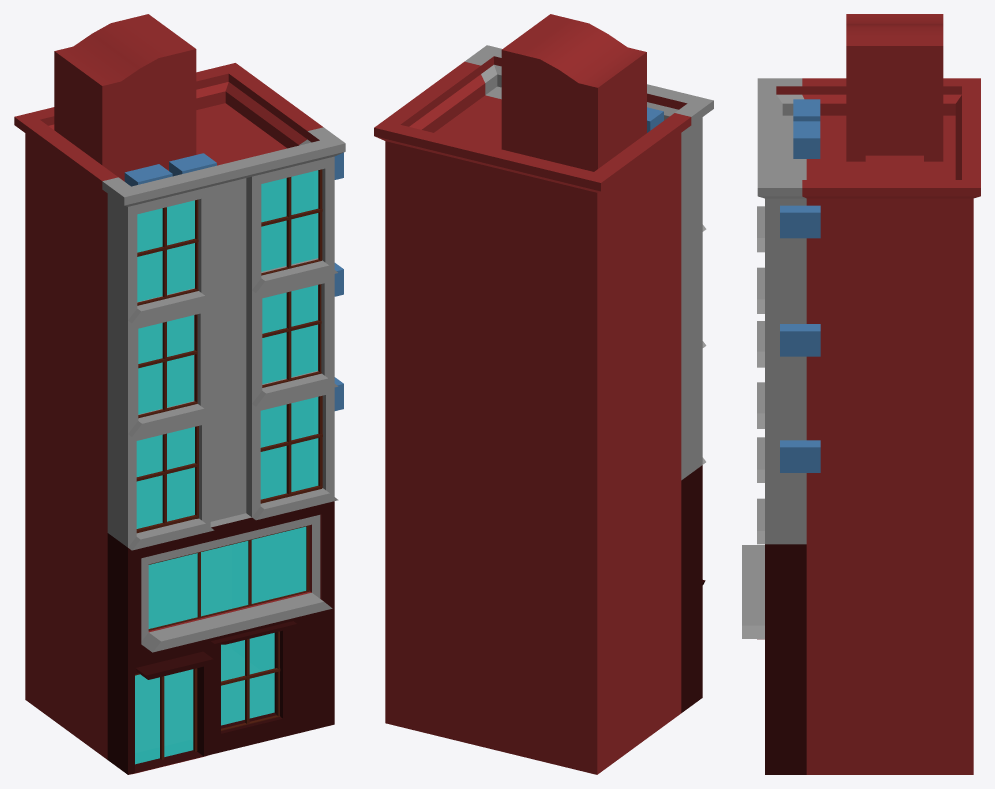
The model's file is House 1.fbx.
3 views of the same model, side by side, from view 1: azimuth 30°, elevation 25°; view 2: azimuth 150°, elevation 25°; view 3: azimuth 270°, elevation 25° (orthographic). The views are drawn at different scales.
Parts seen in each view (by area): view 1: Box243, Box263, Box262, Box261; view 2: Box243; view 3: Box243, Box244, Box245, Box246, Box262, Box261.
Part boxes in pixels (x1=…): Box243: x1=14, y1=14, x2=345, y2=774; Box263: x1=135, y1=169, x2=322, y2=759; Box262: x1=169, y1=153, x2=216, y2=176; Box261: x1=124, y1=164, x2=172, y2=186; Box243: x1=374, y1=14, x2=713, y2=774; Box243: x1=742, y1=14, x2=980, y2=774; Box244: x1=780, y1=205, x2=820, y2=238; Box245: x1=780, y1=324, x2=820, y2=356; Box246: x1=780, y1=440, x2=820, y2=472; Box262: x1=793, y1=121, x2=820, y2=158; Box261: x1=793, y1=99, x2=820, y2=121.
Size of the model in its own units: 50.2 by 139 by 44.32.
